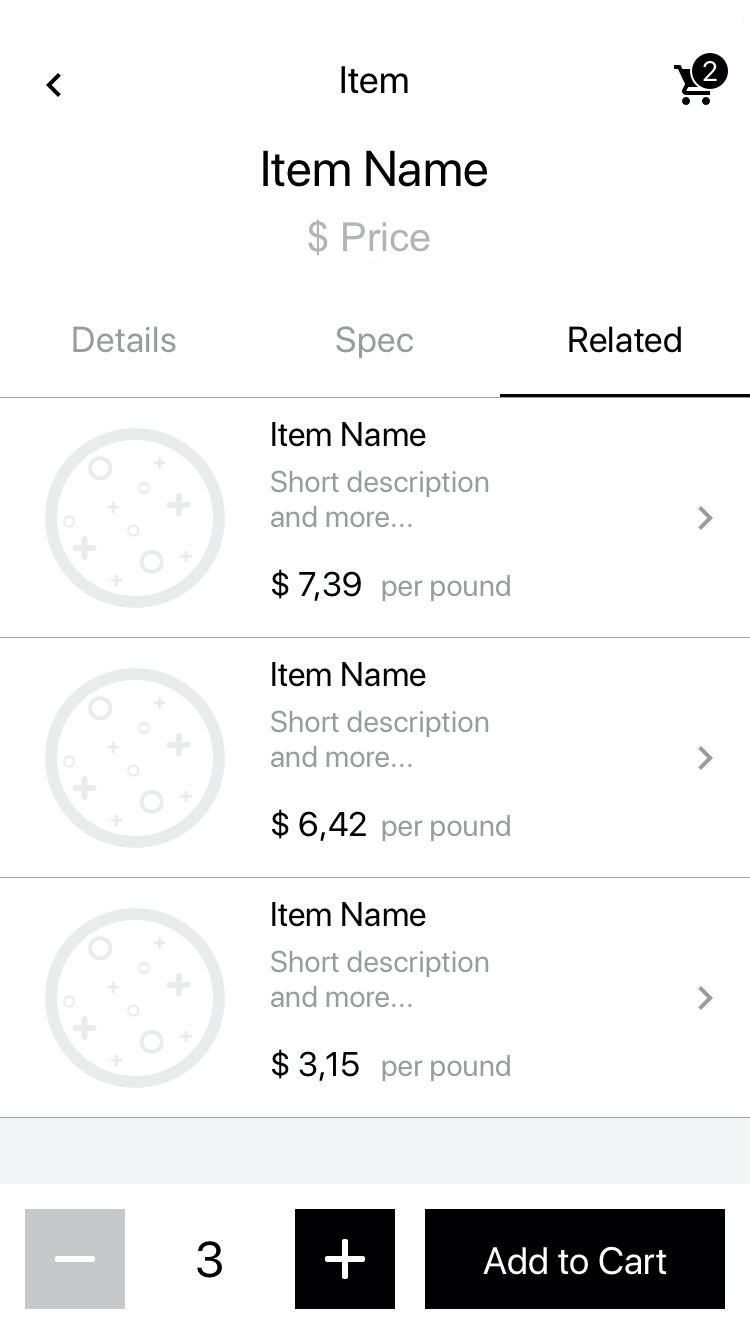Icon: (295, 1209, 396, 1309), (26, 1209, 127, 1309), (674, 53, 728, 106), (697, 747, 714, 770), (47, 74, 63, 97), (697, 507, 713, 530), (698, 987, 713, 1009)
Image: (46, 908, 226, 1089), (46, 668, 225, 848), (46, 429, 225, 608)
Text: (271, 471, 489, 529), (271, 951, 489, 1008), (272, 711, 489, 768), (262, 151, 488, 188), (307, 220, 431, 257), (272, 421, 426, 447), (272, 662, 426, 687), (272, 902, 426, 927), (382, 575, 511, 602), (382, 1054, 511, 1081), (382, 815, 511, 841), (272, 809, 367, 842), (569, 326, 682, 353), (273, 570, 362, 602), (74, 327, 177, 353), (273, 1050, 359, 1081), (337, 327, 414, 359), (341, 66, 409, 95), (196, 1241, 224, 1277)
TextButton: (425, 1209, 725, 1309)
